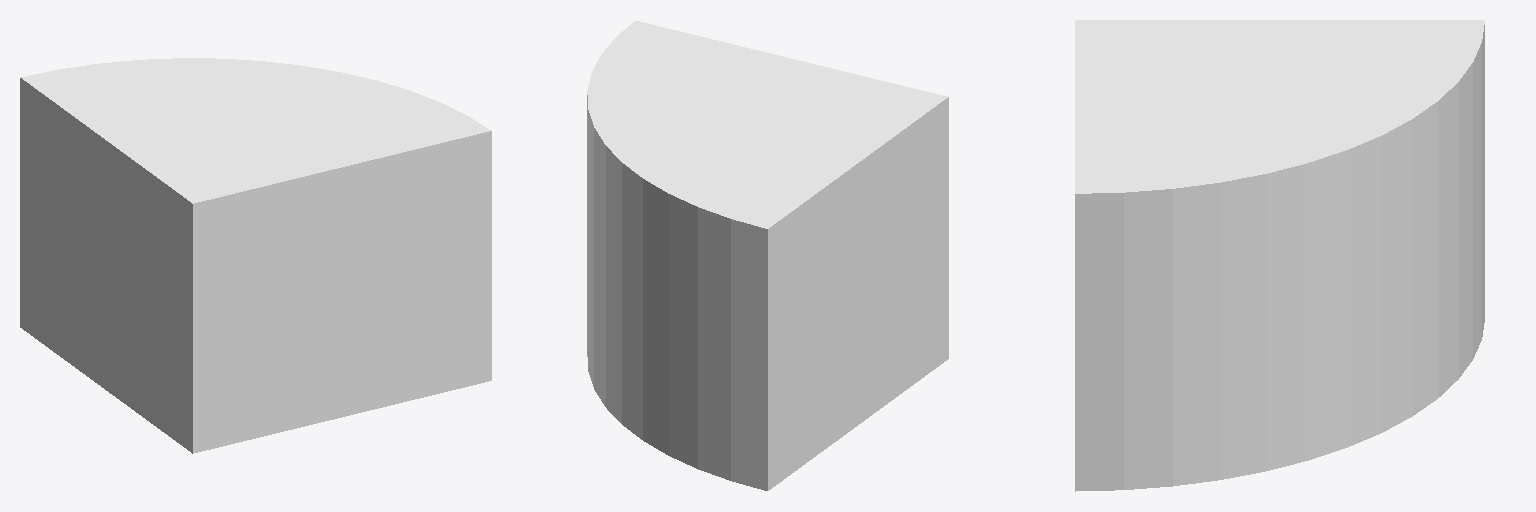
The robot description file, URDF, robot "quar_circle.SLDPRT":
<?xml version="1.0" encoding="utf-8"?>
<!-- This URDF was automatically created by SolidWorks to URDF Exporter! Originally created by [author] ([email redacted]) 
     Commit Version: 1.5.1-0-g916b5db  Build Version: 1.5.7152.31018
     For more information, please see http://wiki.ros.org/sw_urdf_exporter -->
<robot
  name="quar_circle.SLDPRT">
  <link
    name="quar_circle">
    <inertial>
      <origin
        xyz="0.014854 0.014854 0.014"
        rpy="0 0 0" />
      <mass
        value="0.22898" />
      <inertia
        ixx="3.456E-05"
        ixy="5.8826E-06"
        ixz="-7.12706533150224E-22"
        iyy="3.456E-05"
        iyz="1.35700867408679E-21"
        izz="3.92E-05" />
    </inertial>
    <visual>
      <origin
        xyz="0 0 0"
        rpy="1.5707963267949 0 0" />
      <geometry>
        <mesh
          filename="package://quar_circle/meshes/quar_circle.STL" />
      </geometry>
      <material
        name="">
        <color
          rgba="1 1 1 1" />
        <texture
          filename="package://quar_circle/textures/" />
      </material>
    </visual>
    <collision>
      <origin
        xyz="0 0 0"
        rpy="1.5707963267949 0 0" />
      <geometry>
        <mesh
          filename="package://quar_circle/meshes/quar_circle.STL" />
      </geometry>
    </collision>
  </link>
</robot>

--- What the picture shows (computed from the rendered views, not written in the file) ---
The picture shows the robot from 3 angles, left to right: view 1: azimuth 30°, elevation 25°; view 2: azimuth 150°, elevation 25°; view 3: azimuth 270°, elevation 25°; orthographic projection.
Robot: quar_circle.SLDPRT — 1 links, 0 joints (none); root link quar_circle; default pose: every joint at zero.
Links seen in each view (by area): view 1: quar_circle; view 2: quar_circle; view 3: quar_circle.
Boxes of the visible links, x1,y1,x2,y2 form: quar_circle: (20, 58, 491, 453); quar_circle: (587, 20, 948, 490); quar_circle: (1075, 20, 1484, 491).
Bounding box of the posed robot: 0.035 × 0.035 × 0.028 m (x, y, z).
Meshes: 1 distinct files referenced, 1 mesh visuals loaded (1 binary STL).